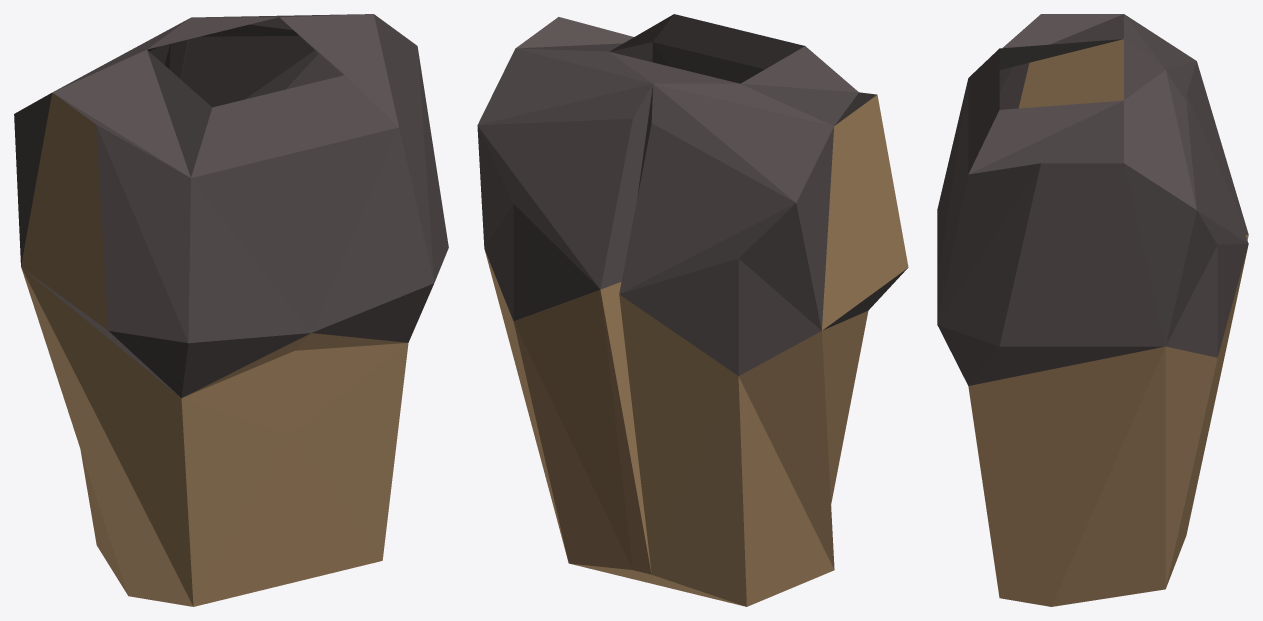
Rendered from model_307_npc.obj.
3 views of the same model, side by side, from view 1: azimuth 30°, elevation 25°; view 2: azimuth 150°, elevation 25°; view 3: azimuth 270°, elevation 25° (orthographic). The views are drawn at different scales.
Parts seen in each view (by area): view 1: 307; view 2: 307; view 3: 307.
Boxes of the visible parts, box(x1,y1,x2,y2) form: 307: box(14, 14, 448, 606); 307: box(477, 14, 908, 606); 307: box(937, 14, 1248, 606).
Size of the model in its own units: 36 by 51 by 30.
